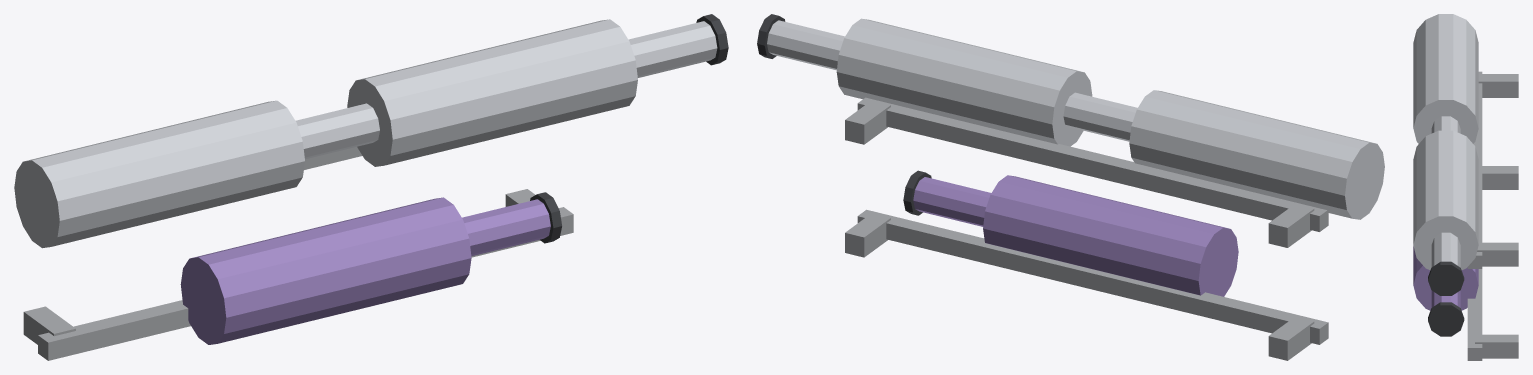
The model's file is exhaust_rack.glb.
3 views of the same model, side by side, from view 1: azimuth 30°, elevation 25°; view 2: azimuth 150°, elevation 25°; view 3: azimuth 270°, elevation 25° (orthographic). The views are drawn at different scales.
Visible parts, largest first — view 1: exhaust_rack; view 2: exhaust_rack; view 3: exhaust_rack.
Boxes of the visible parts, x1=… form: exhaust_rack: x1=14, y1=14, x2=728, y2=360; exhaust_rack: x1=757, y1=14, x2=1384, y2=360; exhaust_rack: x1=1413, y1=14, x2=1518, y2=360.
Size of the model in its own units: 1.55 by 0.4755 by 0.29.
